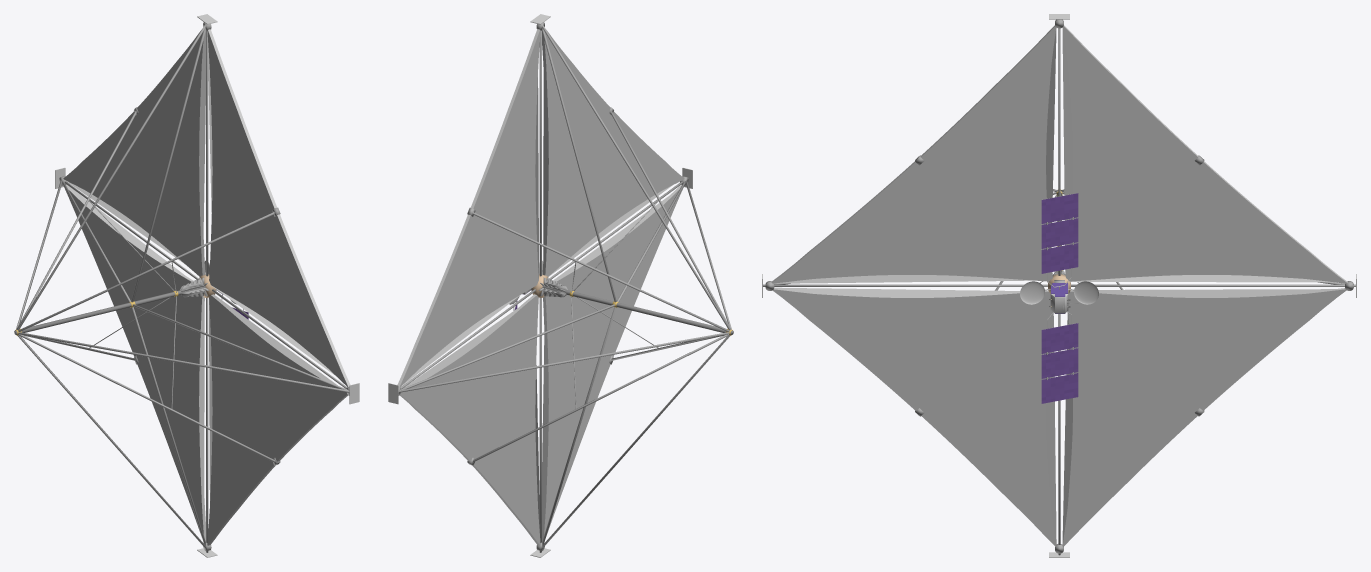
Rendered from Solar Sail concept 2.gltf.
The picture shows the model from 3 angles, left to right: view 1: azimuth 30°, elevation 25°; view 2: azimuth 150°, elevation 25°; view 3: azimuth 270°, elevation 25°; orthographic projection.
Parts seen in each view (by area): view 1: Layer_0; view 2: Layer_0; view 3: Layer_0.
Boxes of the visible parts, x1,y1,x2,y2 form: Layer_0: (14, 14, 359, 557); Layer_0: (388, 14, 733, 557); Layer_0: (762, 14, 1356, 557).
Bounding box in the file's own units: 8.11 × 17.12 × 17.12.
